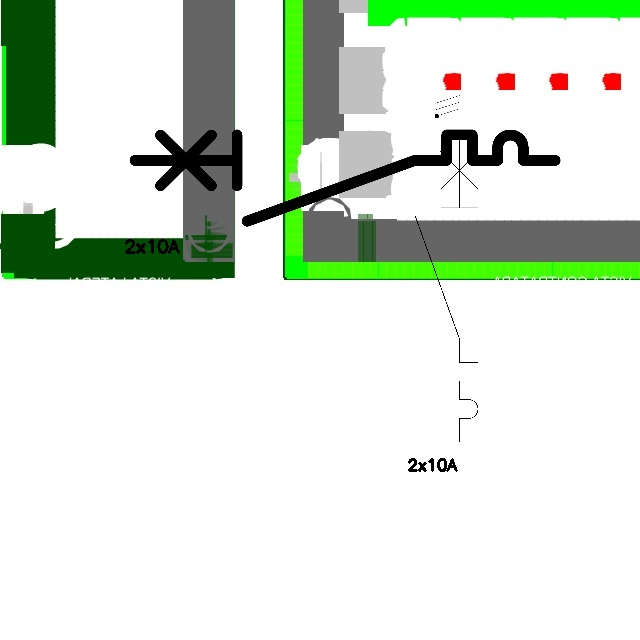interruptor_termomagnetico: (124, 124, 566, 232), (407, 124, 486, 449)
